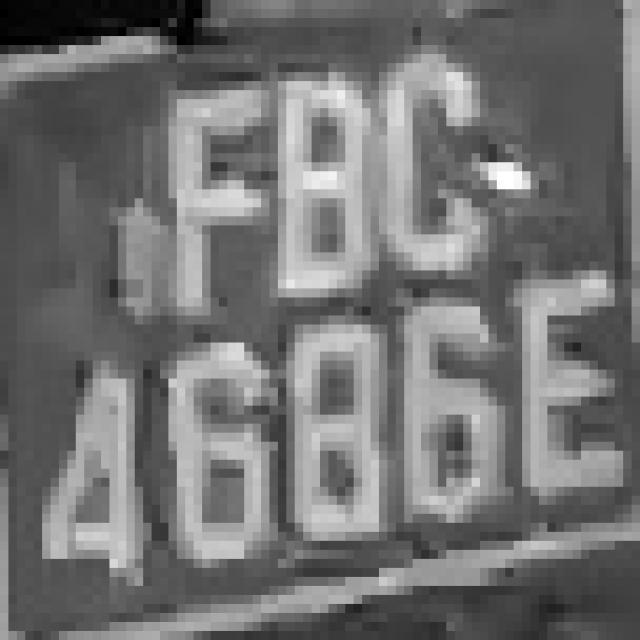4: (0, 333, 152, 568)
6: (143, 324, 295, 568), (388, 279, 506, 541)
8: (269, 306, 379, 559)
B: (244, 54, 371, 343)
C: (354, 54, 497, 298)
E: (514, 252, 632, 514)
F: (160, 63, 286, 334)
